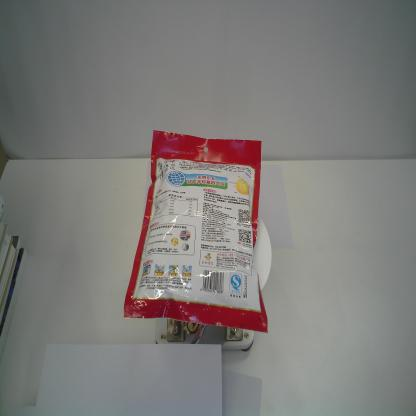Instant Drink: (120, 128, 270, 334)
